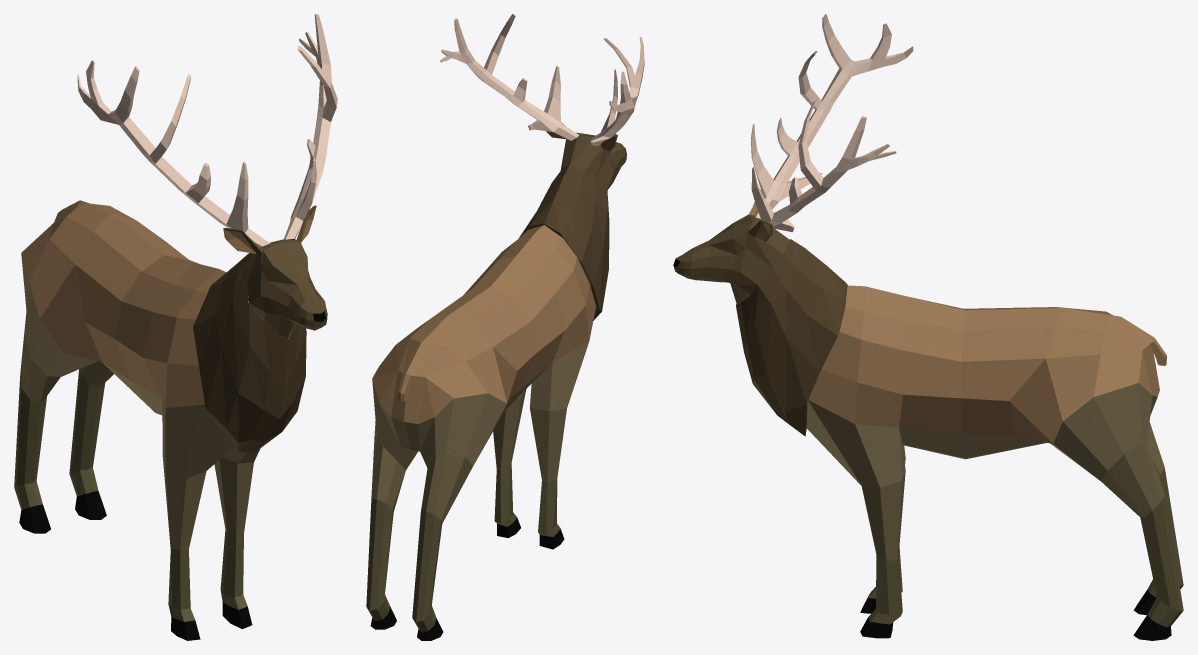
Rendered from Deer-bLT2gJHPPt-transformed.glb.
The picture shows the model from 3 angles, left to right: view 1: azimuth 30°, elevation 25°; view 2: azimuth 150°, elevation 25°; view 3: azimuth 270°, elevation 25°; orthographic projection. The views are drawn at different scales.
Visible parts, largest first — view 1: 09deerFinal; view 2: 09deerFinal; view 3: 09deerFinal.
Boxes of the visible parts, x1,y1,x2,y2 form: 09deerFinal: (14, 14, 337, 640); 09deerFinal: (366, 14, 644, 640); 09deerFinal: (673, 14, 1183, 640).
Bounding box in the file's own units: 1.04 × 2.72 × 2.24.
1 material, 1 textured.
